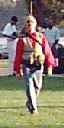person: (8, 13, 55, 109)
